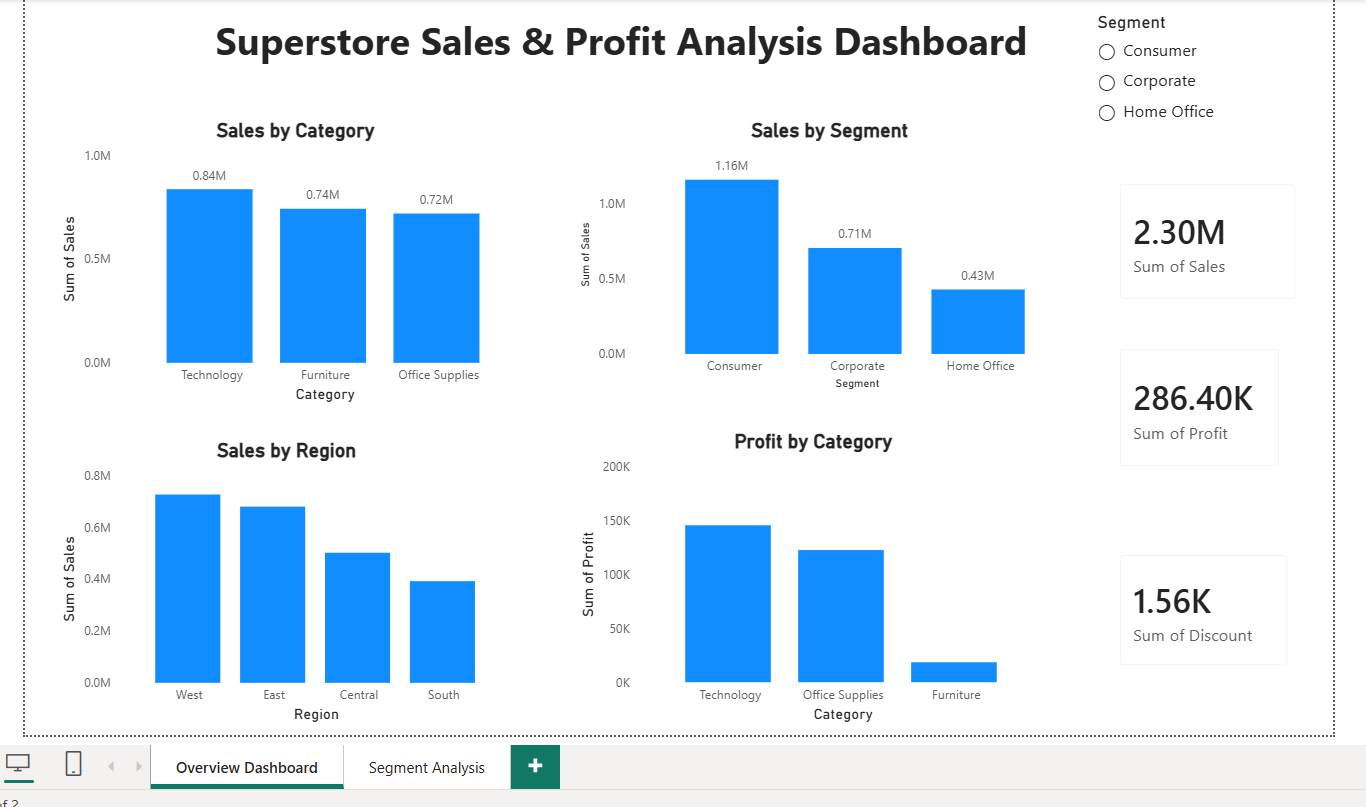

The page's visual inventory and layout, read from the dashboard file:
{"tool":"powerbi","page":{"name":"Overview Dashboard","canvas":[1280,720],"ordinal":0},"visuals":[{"type":"clusteredColumnChart","title":"Sales by Category","fields":{"Category":["Dataset.Category"],"Y":["Sum(Dataset.Sales)"]},"box":[30.2,117.5,468.3,282.5],"z":0},{"type":"clusteredColumnChart","title":" Sales by Region","fields":{"Category":["Dataset.Region"],"Y":["Sum(Dataset.Sales)"]},"box":[30.2,430.2,450.8,282.5],"z":1000},{"type":"clusteredColumnChart","title":"Sales by Segment","fields":{"Category":["Dataset.Segment"],"Y":["Sum(Dataset.Sales)"]},"box":[538.1,117.5,498.4,269.8],"z":2000},{"type":"clusteredColumnChart","title":"Profit by Category","fields":{"Category":["Dataset.Category"],"Y":["Sum(Dataset.Profit)"]},"box":[538.1,422.2,466.7,290.5],"z":3000},{"type":"textbox","box":[109.5,9.5,957.1,63.5],"z":3001},{"type":"listSlicer","fields":{"Values":["Dataset.Segment"]},"box":[1044.4,12.7,225.4,120.6],"z":3002},{"type":"cardVisual","fields":{"Data":["Sum(Dataset.Sales)"]},"box":[1054,163.5,206.3,147.6],"z":3003},{"type":"cardVisual","fields":{"Data":["Sum(Dataset.Profit)"]},"box":[1054,325.4,190.5,149.2],"z":3004},{"type":"cardVisual","fields":{"Data":["Sum(Dataset.Discount)"]},"box":[1054,527,198.4,142.9],"z":3005}]}

Visuals, with their boxes on the page's 1280x720 design canvas (x1, y1, x2, y2). These are canvas units, not pixel positions in the 1366x807 screenshot, which may show the page scaled, cropped or inside an application window:
"Sales by Category" clusteredColumnChart: locate(30, 118, 498, 400)
" Sales by Region" clusteredColumnChart: locate(30, 430, 481, 713)
"Sales by Segment" clusteredColumnChart: locate(538, 118, 1036, 387)
"Profit by Category" clusteredColumnChart: locate(538, 422, 1005, 713)
textbox: locate(110, 10, 1067, 73)
listSlicer - Dataset.Segment: locate(1044, 13, 1270, 133)
cardVisual - Sum(Dataset.Sales): locate(1054, 164, 1260, 311)
cardVisual - Sum(Dataset.Profit): locate(1054, 325, 1244, 475)
cardVisual - Sum(Dataset.Discount): locate(1054, 527, 1252, 670)
